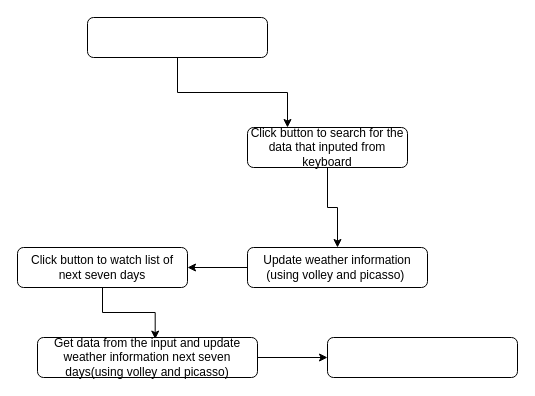
Image size: 535x396. Some labels were removed from this diagram. The centre of each missing label's shape, as x and y in pixels:
Input city name,province from keyboard: the point at 177,37
Show list of weather information next seven days: the point at 422,357
